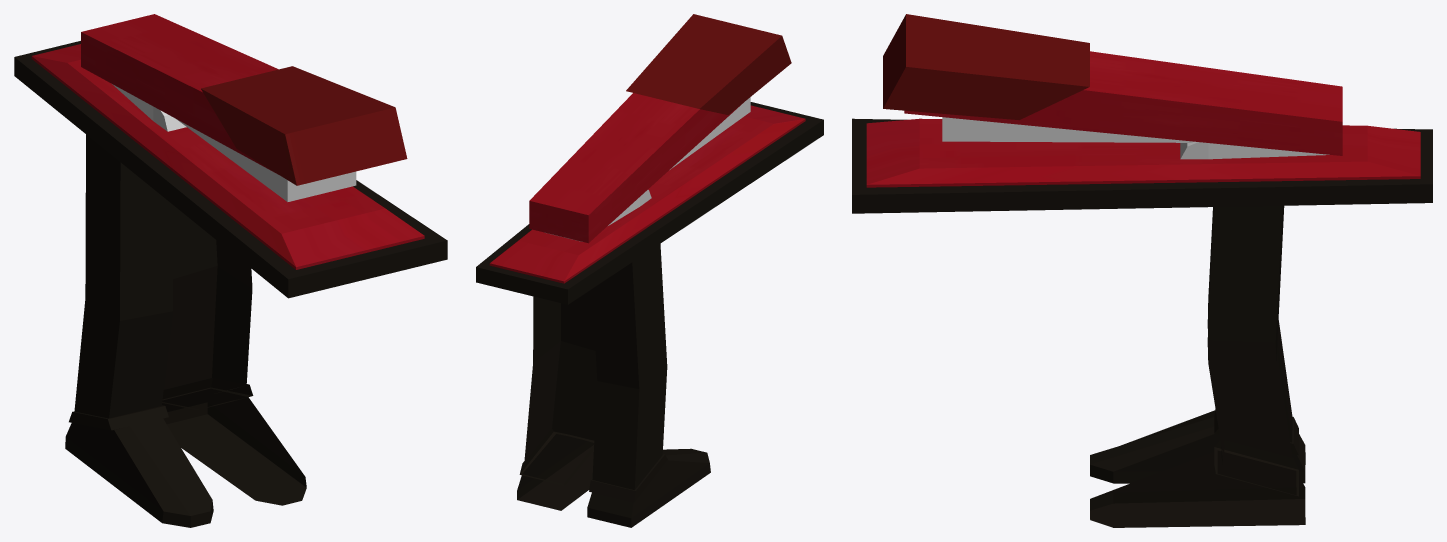
The model's file is StaplerEnemyLarge.fbx.
The picture shows the model from 3 angles, left to right: view 1: azimuth 30°, elevation 25°; view 2: azimuth 150°, elevation 25°; view 3: azimuth 270°, elevation 25°; orthographic projection. The views are drawn at different scales.
Parts seen in each view (by area): view 1: Cube.003, Cube, Cube.004, Cube.005, Cube.002; view 2: Cube.003, Cube, Cube.004, Cube.005, Cube.002; view 3: Cube, Cube.003, Cube.004, Cube.005, Cube.002.
Part boxes in pixels (bbox=[...]): Cube.003: bbox=[65, 134, 306, 527]; Cube: bbox=[31, 14, 424, 269]; Cube.004: bbox=[201, 66, 407, 185]; Cube.005: bbox=[14, 41, 447, 298]; Cube.002: bbox=[112, 84, 356, 201]; Cube.003: bbox=[517, 243, 710, 527]; Cube: bbox=[489, 93, 805, 283]; Cube.004: bbox=[626, 14, 791, 114]; Cube.005: bbox=[476, 102, 823, 304]; Cube.002: bbox=[545, 97, 750, 241]; Cube: bbox=[866, 51, 1420, 187]; Cube.003: bbox=[1090, 205, 1305, 527]; Cube.004: bbox=[883, 14, 1089, 120]; Cube.005: bbox=[852, 118, 1432, 213]; Cube.002: bbox=[942, 117, 1329, 159].
Size of the model in its own units: 338 by 938 by 1089.
